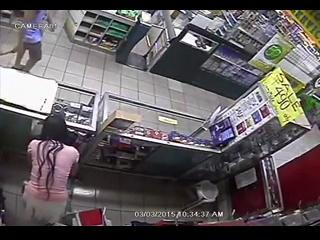Normal: (20, 113, 80, 225), (10, 10, 46, 74)
